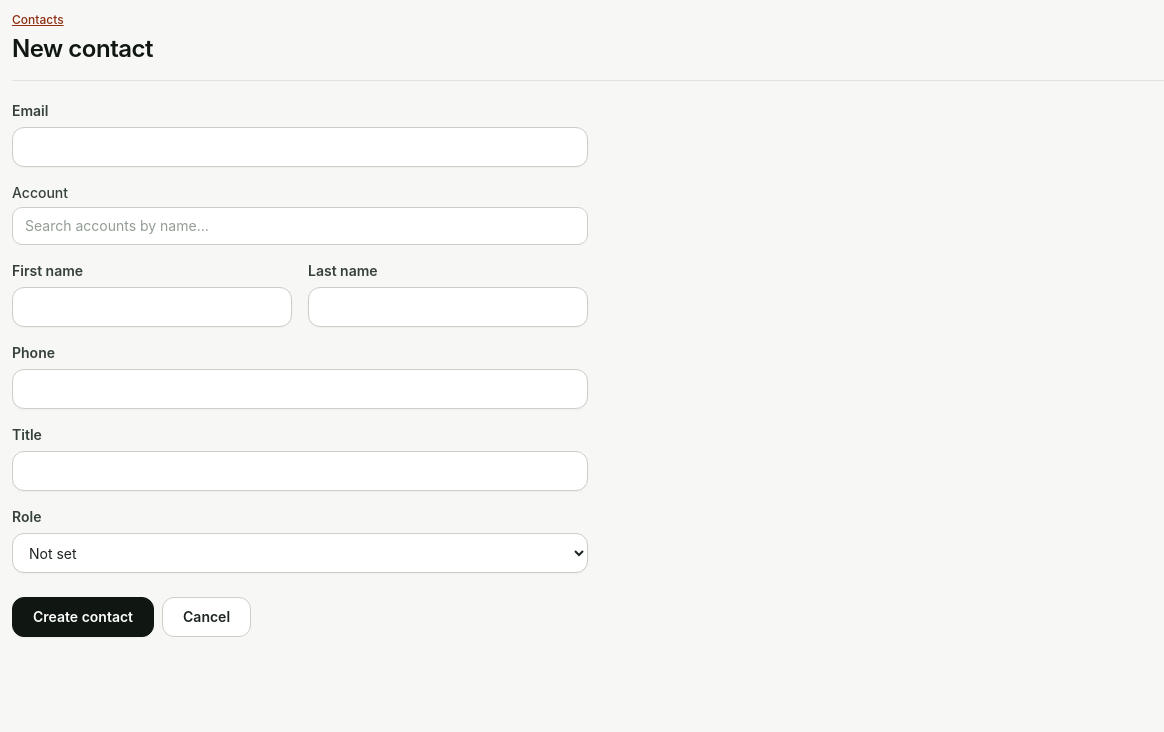
Test: ContactFormPage — create › requires an account, since a contact must belong to a real one
Type "grace@acme.example" into the field labelled "Email" at (300, 147), box top-left (12, 127), bottom-right (588, 167)
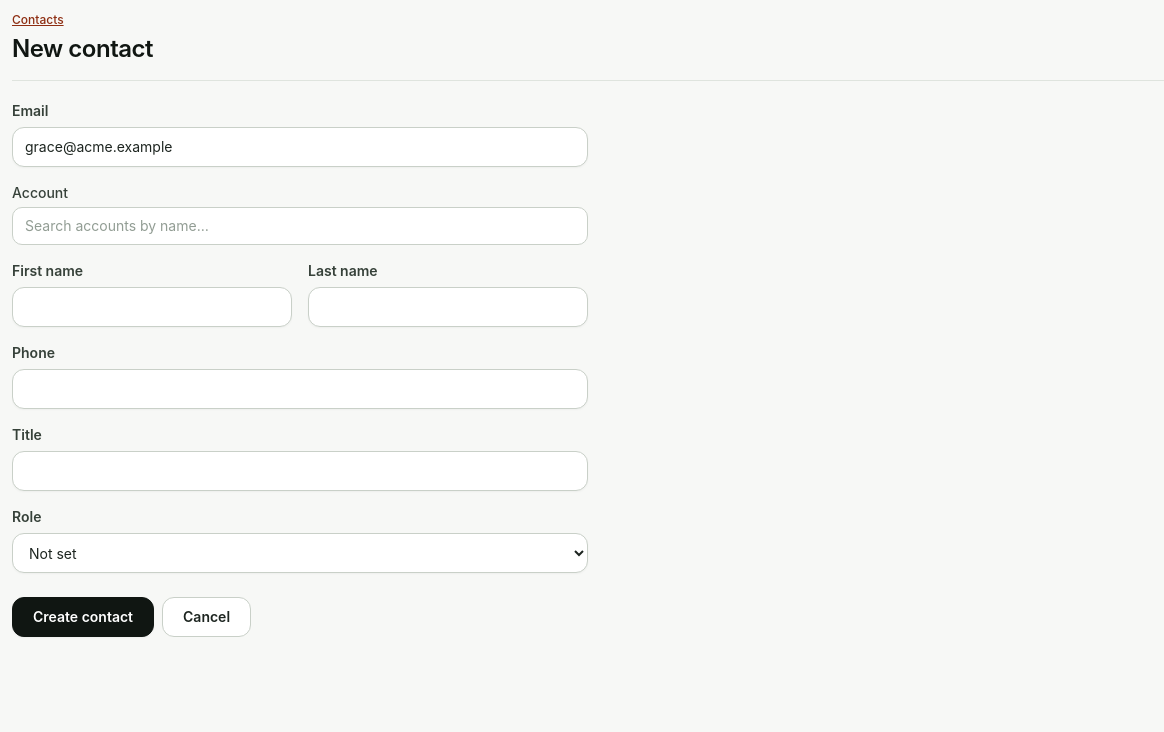
Click the button "Create contact" at (83, 617), box top-left (12, 597), bottom-right (154, 637)
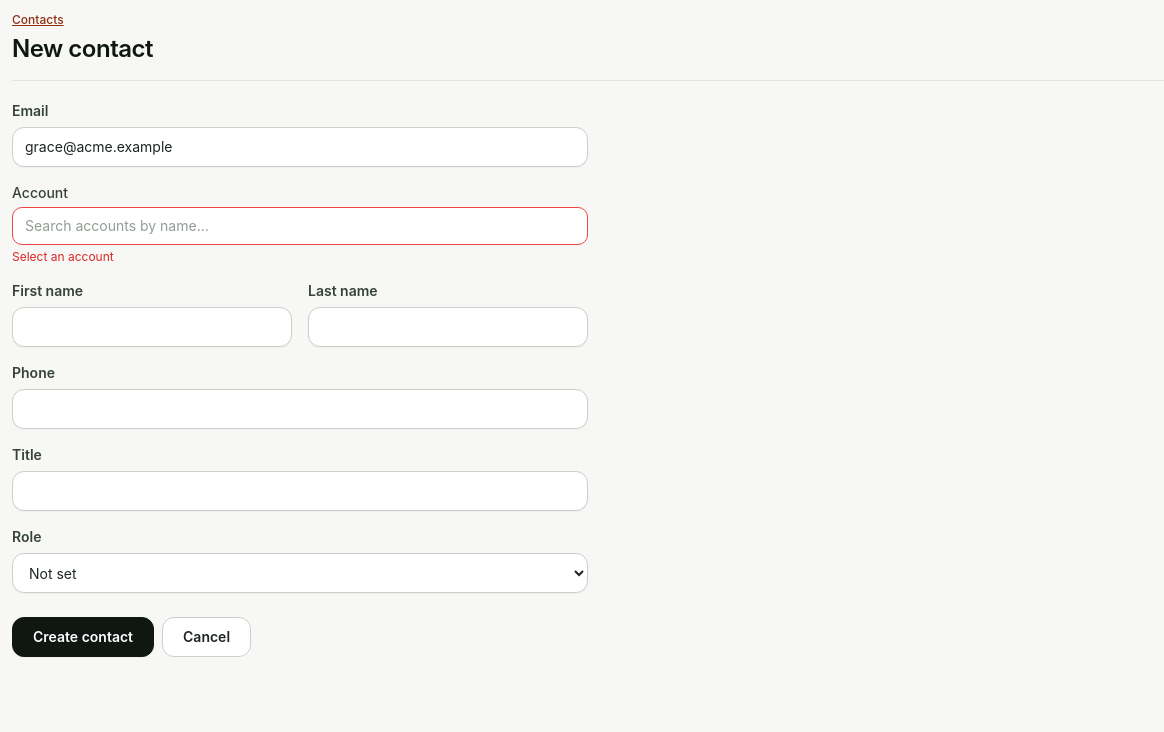
Now the text "Select an account" is shown, box top-left (12, 249), bottom-right (114, 264)
